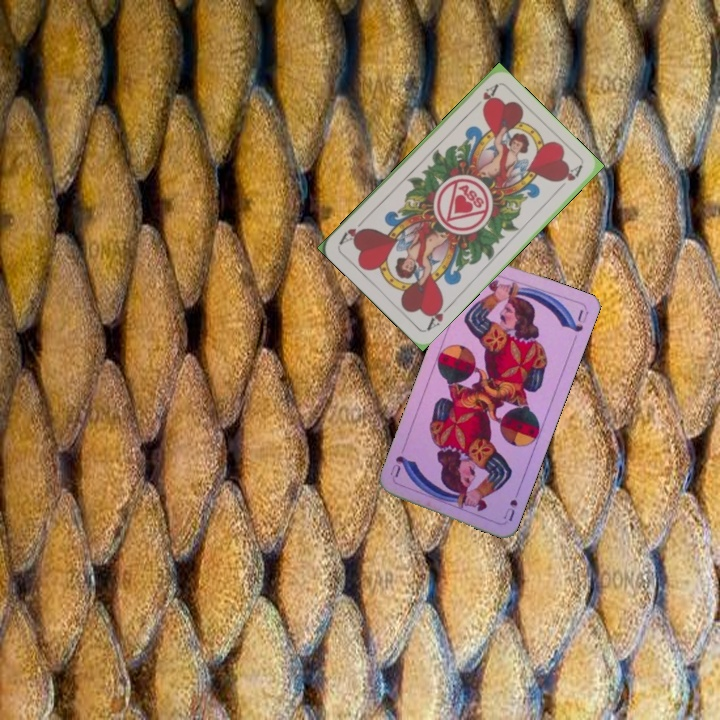HA: (422, 297, 454, 334), (468, 81, 500, 113)
SU: (499, 484, 521, 524)
